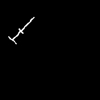double_crochet: (9, 17, 33, 41)
